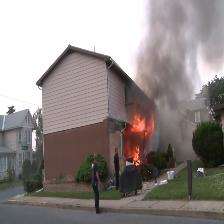fire: (121, 102, 160, 180)
smoke: (155, 1, 224, 187), (133, 0, 224, 120)
